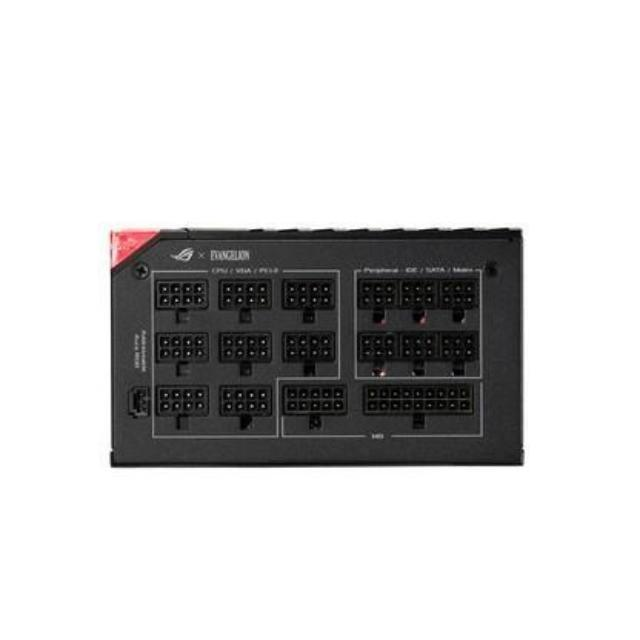PSU: (98, 222, 530, 474)
